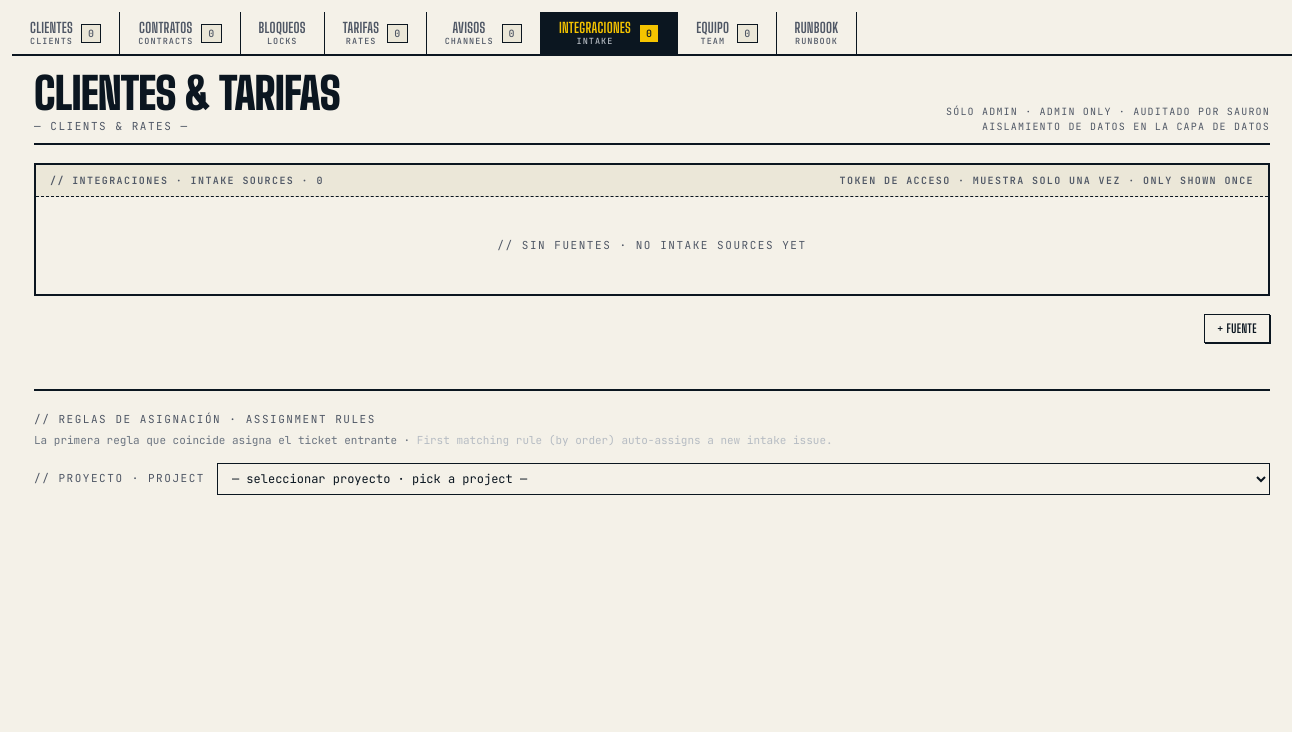
Test: SettingsPage › creates an intake source and reveals the one-time token
This screenshot has width=1292, height=732.
Expected: the text "// sin fuentes · no intake sources yet" is shown, [497,237,807,254]
Click the button "+ Fuente".
click(1237, 329)  # box [1204,314,1270,343]
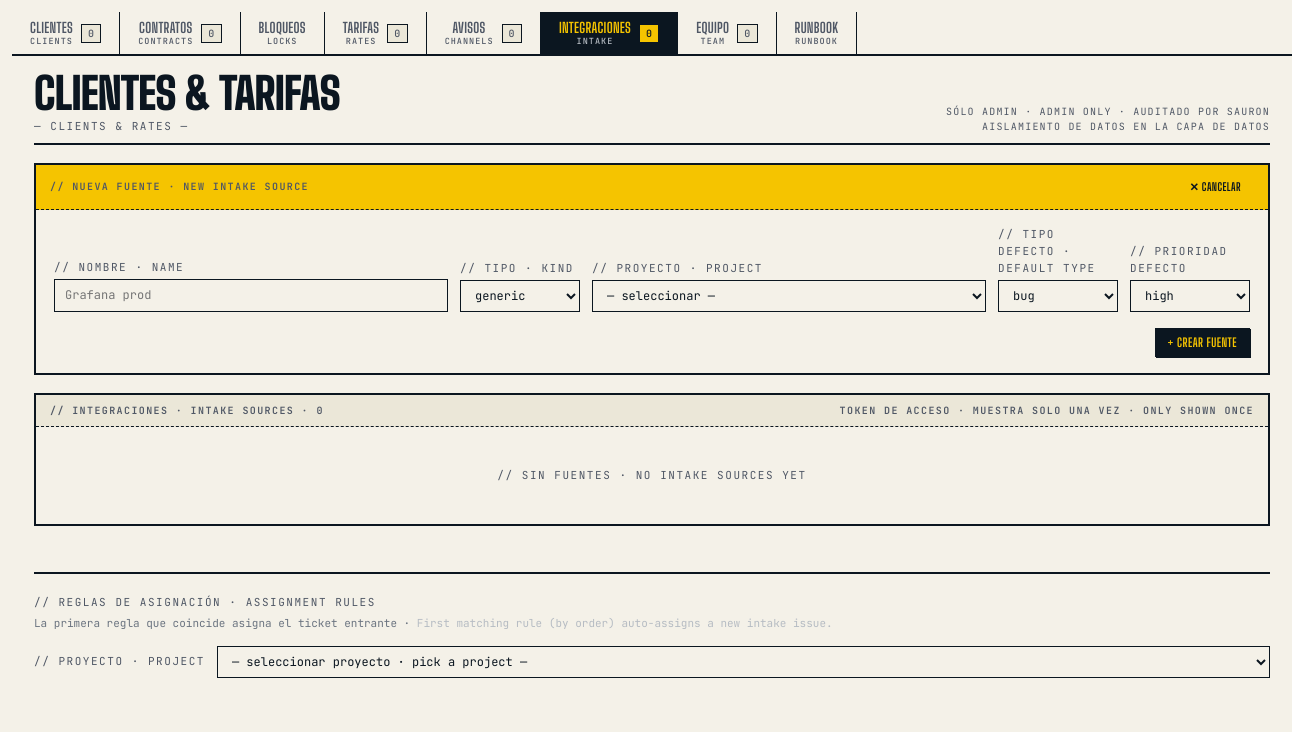
Expected: the text "// NUEVA FUENTE · NEW INTAKE SOURCE" is shown, [50,179,309,194]
Expected: the button "+ Crear Fuente" is disabled, [1155,328,1250,357]
Type "New src" into the field with placeholder "Grafana prod".
click(251, 296); type("New src")  # box [54,279,448,312]
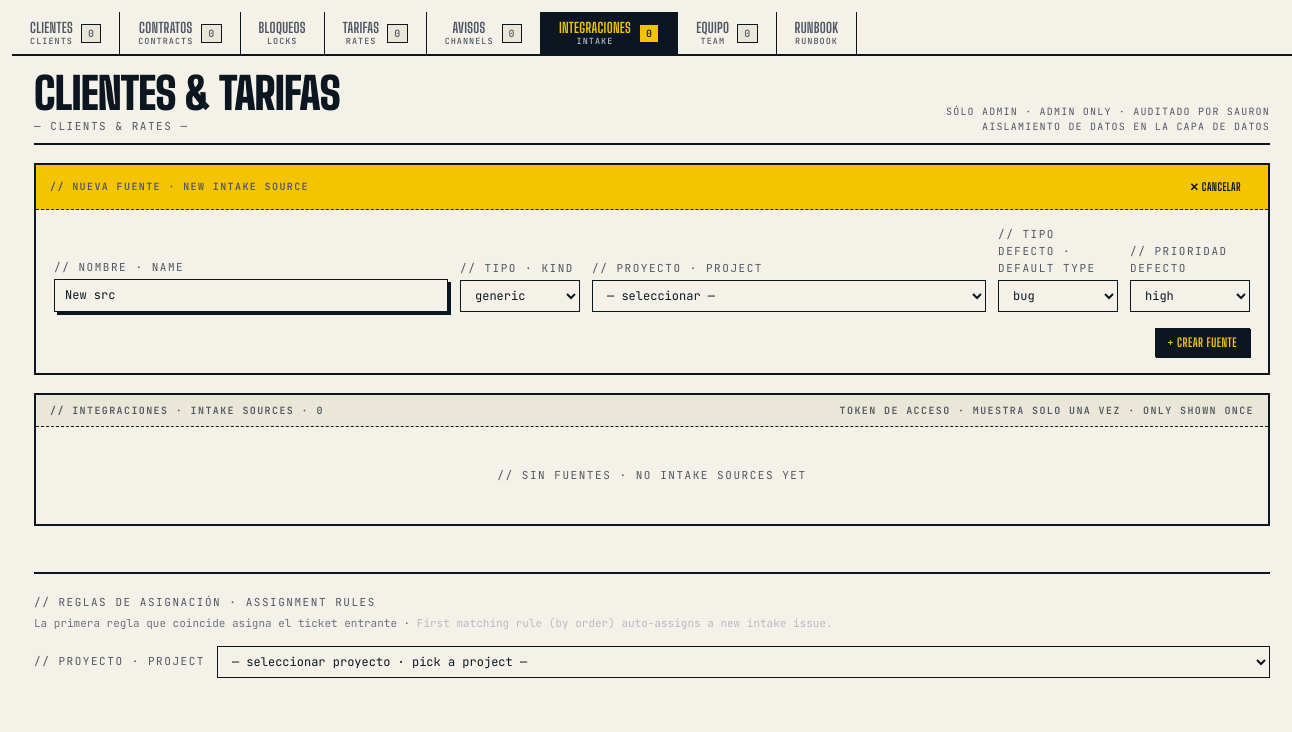
Select "GIRA · Gira" in the 2nd dropdown named "— seleccionar —" at [789, 296], box [592,280,986,312]
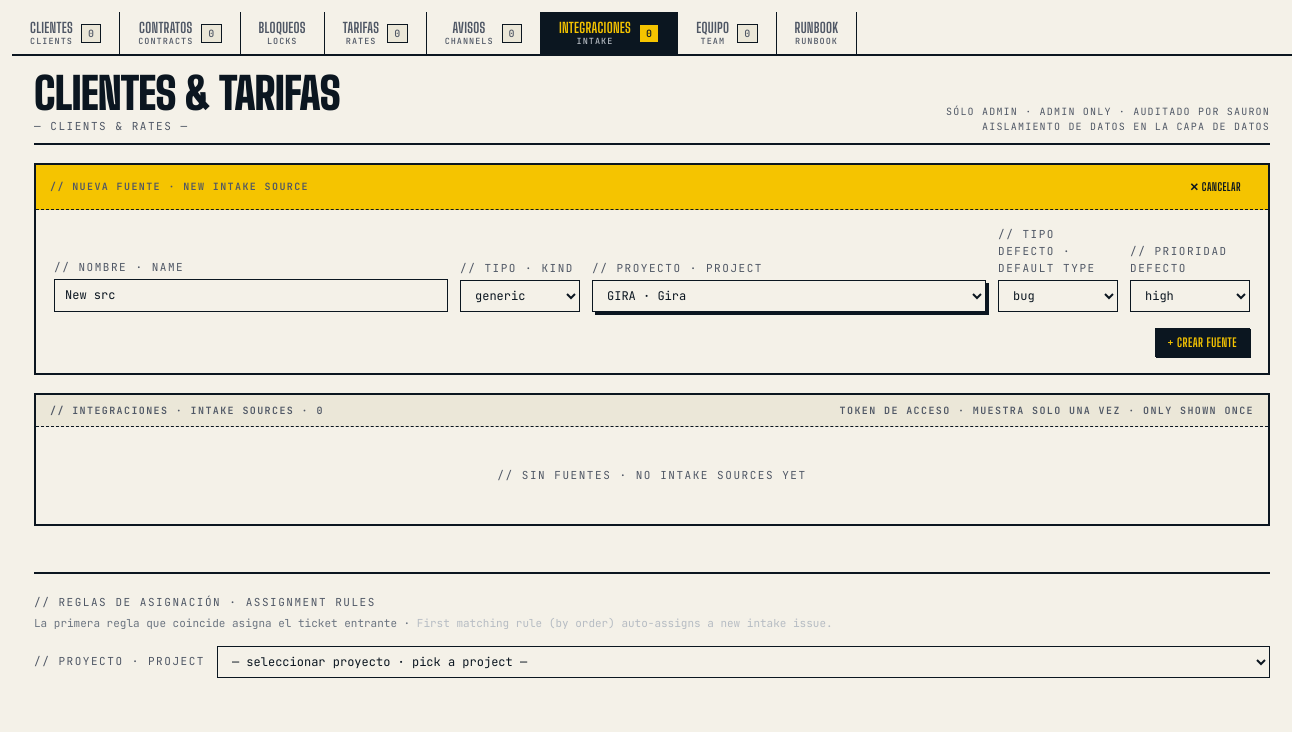
Click the button "+ Crear Fuente".
click(1202, 342)  # box [1155,328,1250,357]
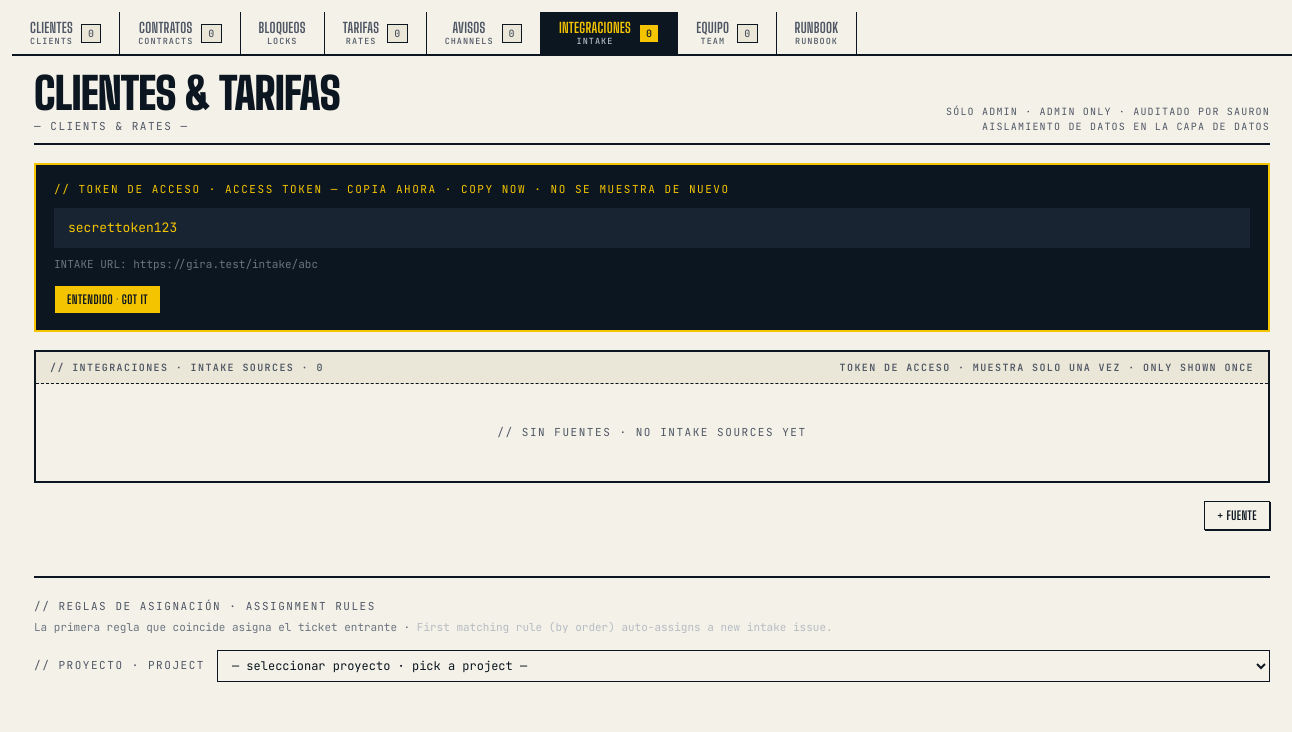
Expected: the text "secrettoken123" is shown, [54,208,1250,248]
Expected: the text "INTAKE URL: https://gira.test/intake/abc" is shown, [54,257,318,271]
# Dismiss it.
Click the button "Entendido · Got it".
click(108, 299)  # box [54,285,161,314]
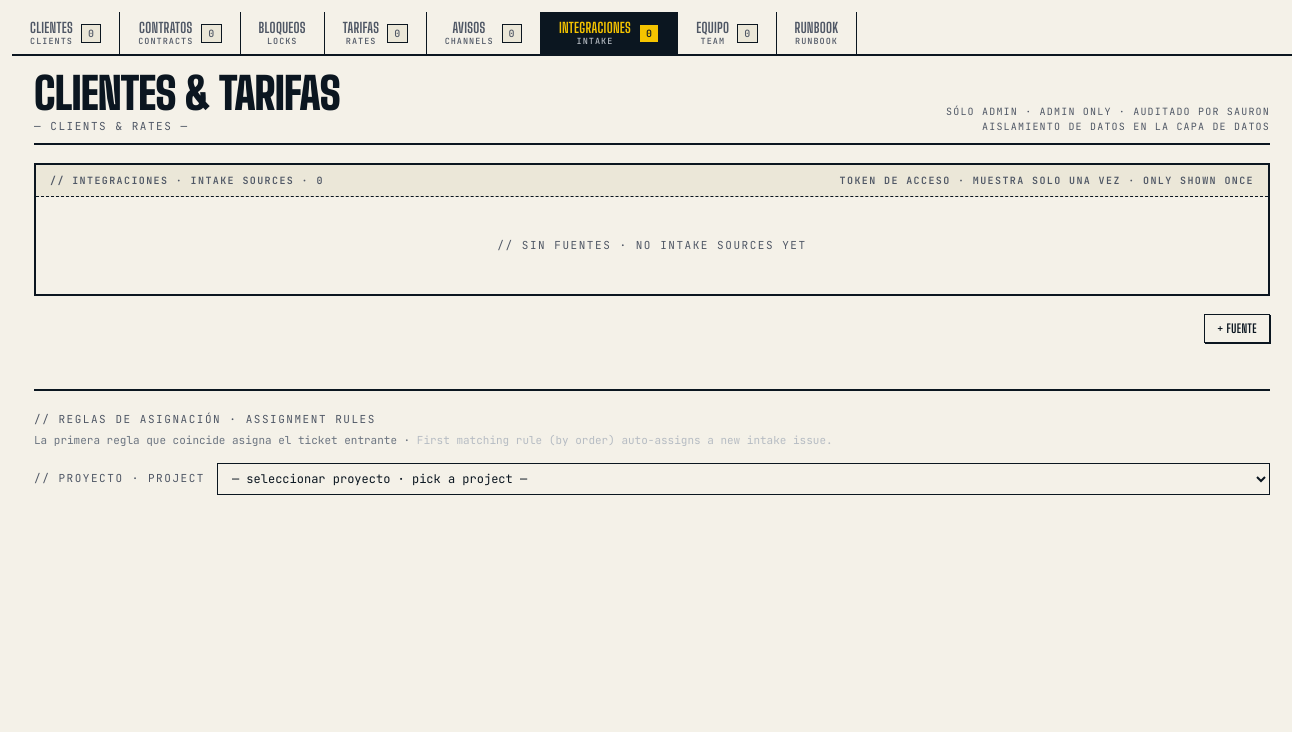
Expected: the text "secrettoken123" is gone
